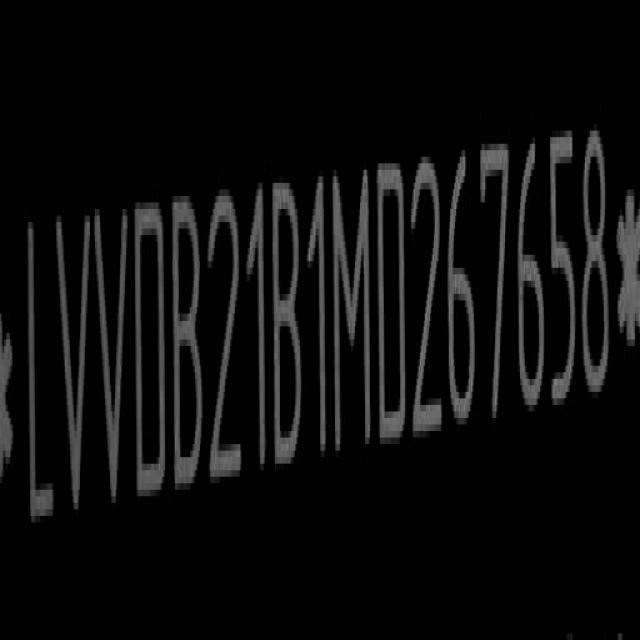1: (307, 169, 329, 473), (250, 182, 270, 488)
2: (210, 189, 243, 499), (414, 157, 444, 450)
5: (550, 121, 577, 408)
6: (449, 137, 478, 435), (518, 126, 546, 420)
7: (482, 131, 510, 427)
8: (583, 129, 613, 395)
B: (174, 192, 207, 502), (274, 177, 304, 480)
D: (132, 194, 166, 510), (378, 155, 411, 457)
L: (24, 212, 54, 539)
M: (334, 166, 372, 462)
V: (54, 209, 92, 528), (95, 202, 131, 523)
